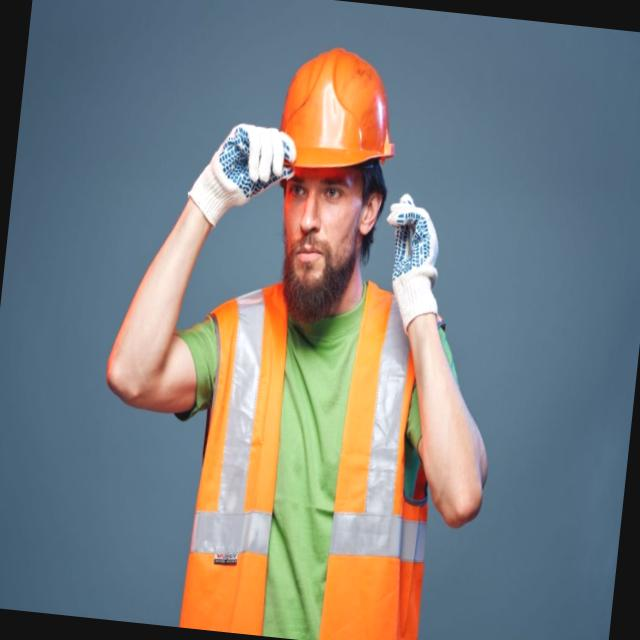helmet: (270, 36, 416, 188)
no-goggles: (275, 154, 388, 228)
vest: (163, 252, 450, 640)
